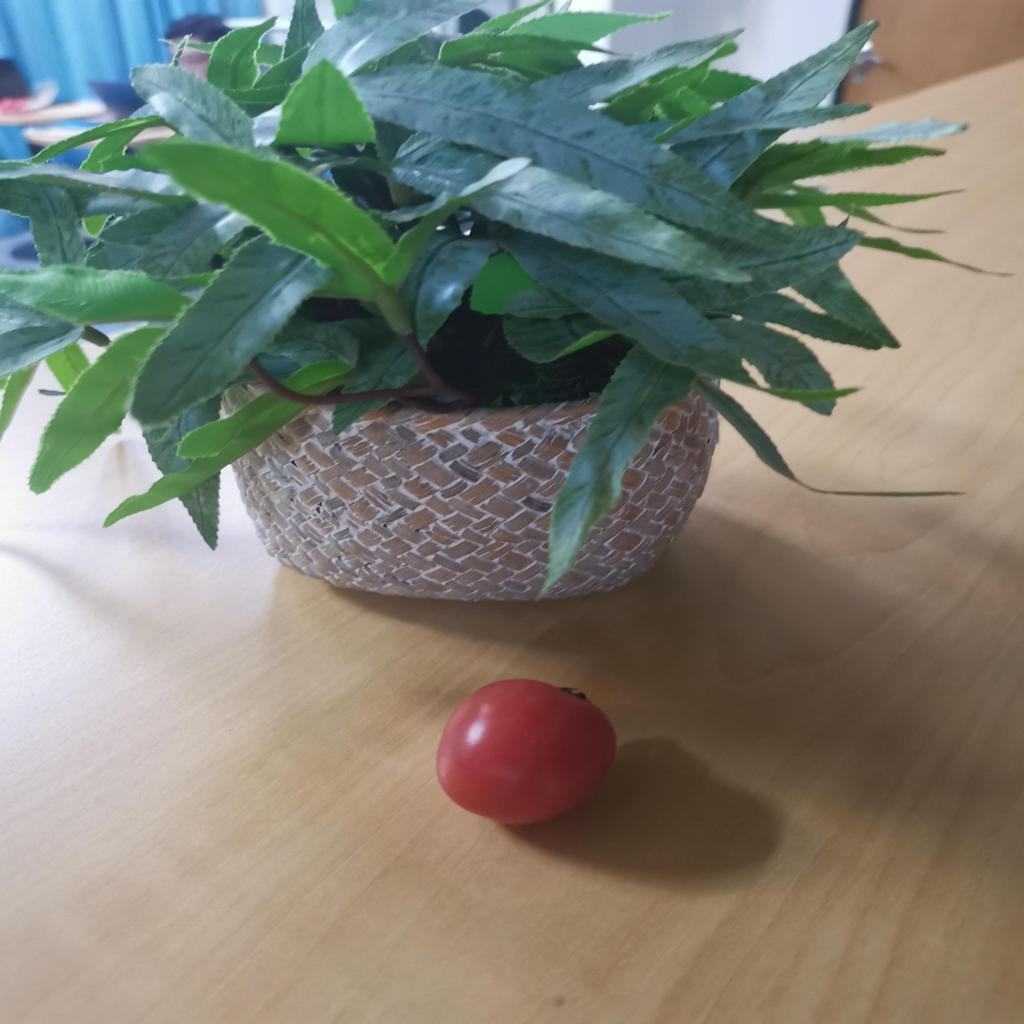tomato: (431, 673, 625, 836)
